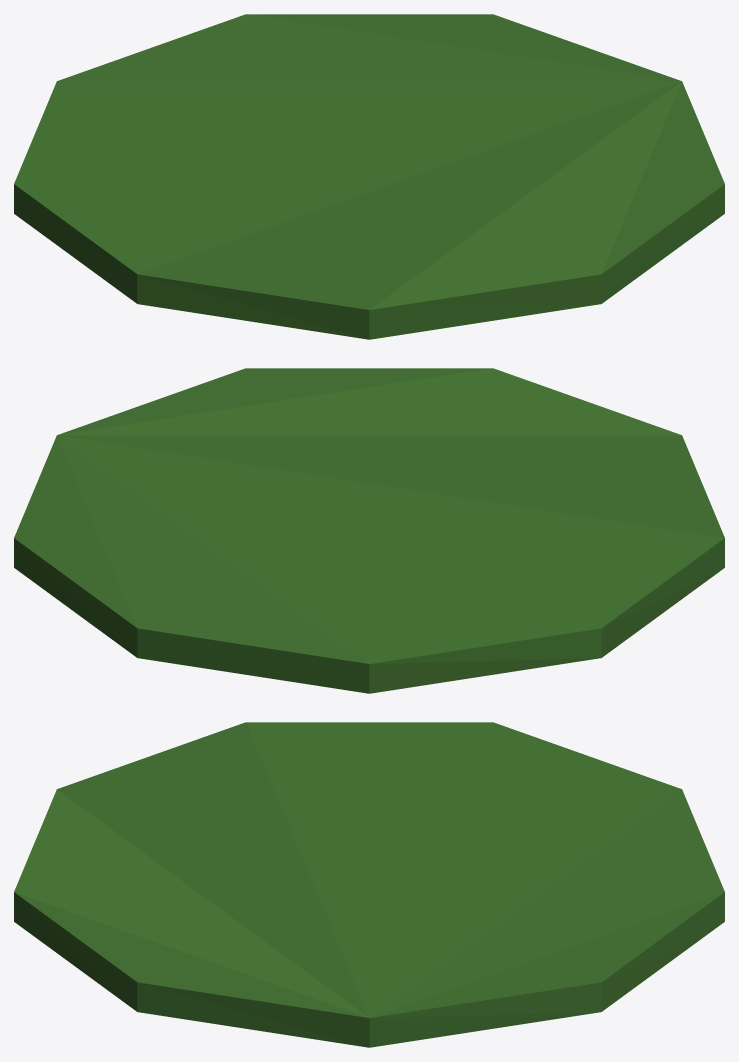
File: lily_pad_1.glb
3 views of the same model, one above another, from view 1: azimuth 30°, elevation 25°; view 2: azimuth 150°, elevation 25°; view 3: azimuth 270°, elevation 25° (orthographic).
Visible parts, largest first — view 1: lily_pad_1; view 2: lily_pad_1; view 3: lily_pad_1.
Boxes of the visible parts, <box> form: lily_pad_1: <box>14,14,724,339</box>; lily_pad_1: <box>14,368,724,693</box>; lily_pad_1: <box>14,722,724,1047</box>.
Bounding box in the file's own units: 0.1708 × 0.008 × 0.1734.
